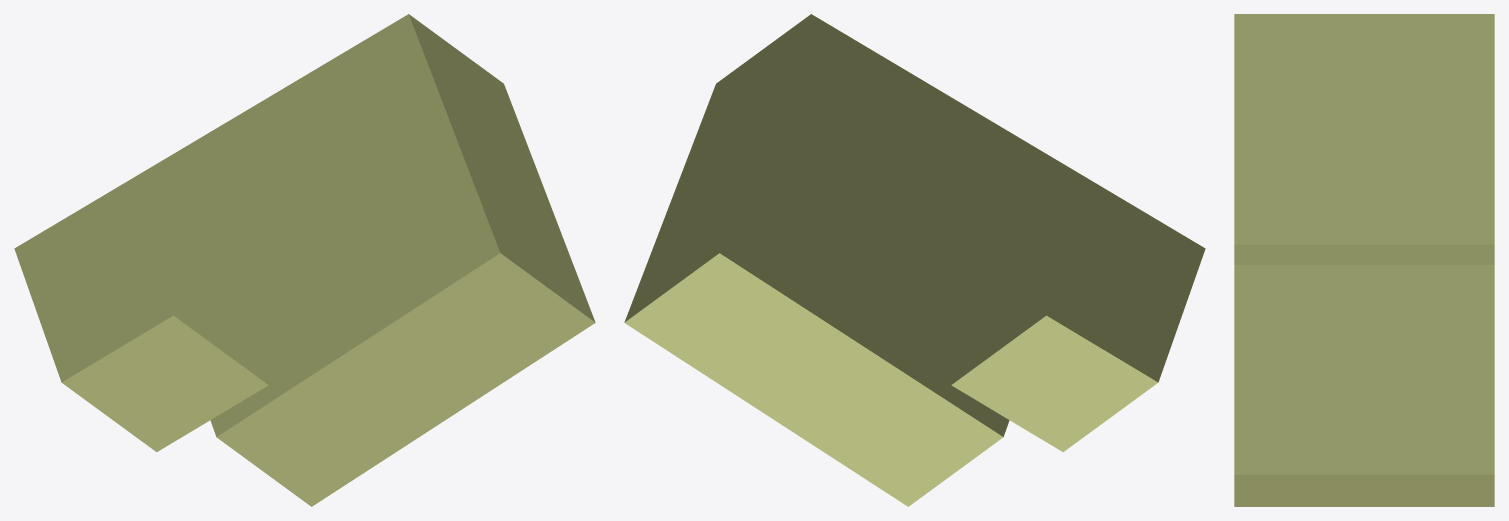
3 views of the same model, side by side, from view 1: azimuth 30°, elevation 25°; view 2: azimuth 150°, elevation 25°; view 3: azimuth 270°, elevation 25° (orthographic). The views are drawn at different scales.
Parts seen in each view (by area): view 1: 0_1_3_2_2_2_1_3_3; view 2: 0_1_3_2_2_2_1_3_3; view 3: 0_1_3_2_2_2_1_3_3.
Boxes of the visible parts, x1,y1,x2,y2 form: 0_1_3_2_2_2_1_3_3: (14,14,595,506); 0_1_3_2_2_2_1_3_3: (624,14,1205,506); 0_1_3_2_2_2_1_3_3: (1234,14,1494,506).
Size of the model in its own units: 17.68 by 13.08 by 6.
